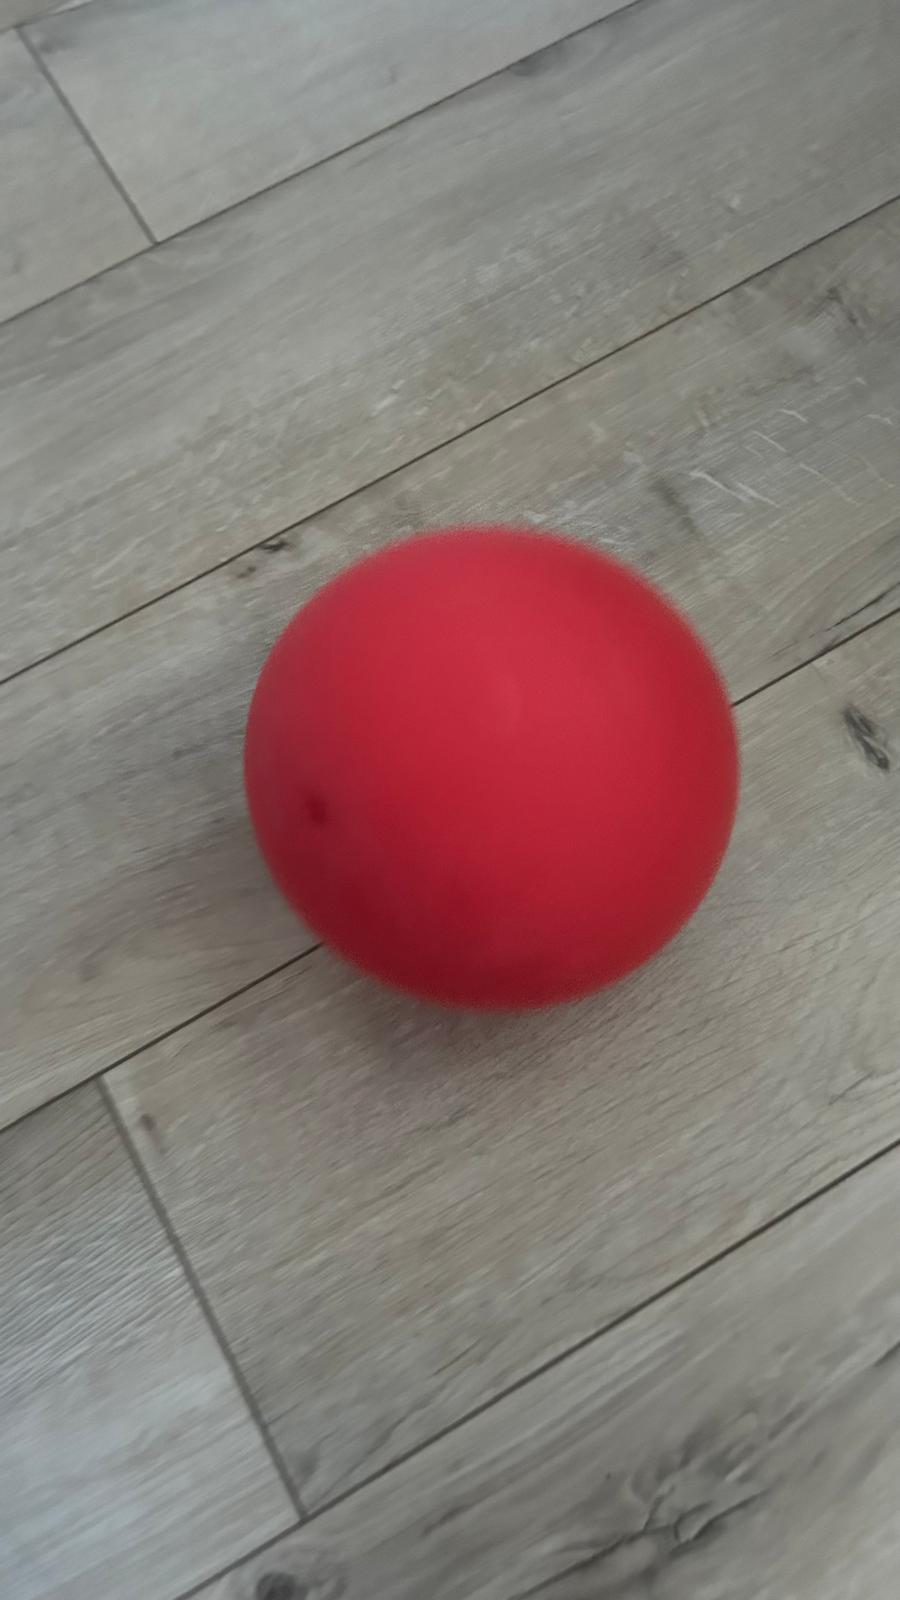red: (247, 514, 746, 1014)
